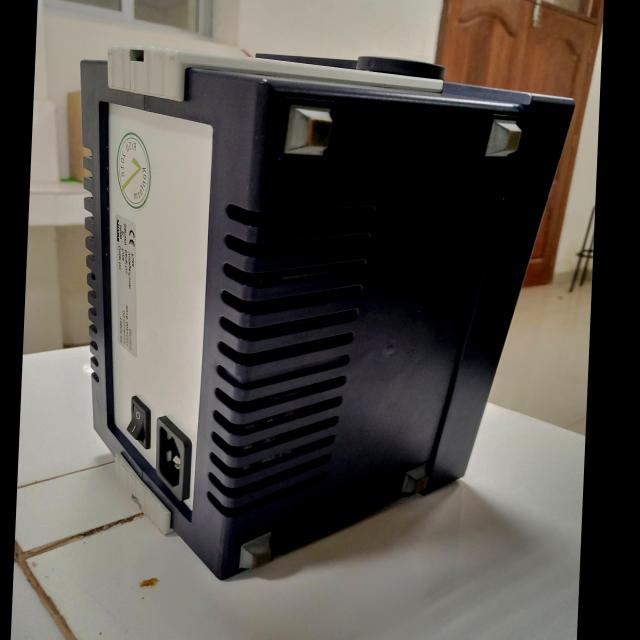DC Constant Power Supply 0-600V: (49, 32, 593, 594)
